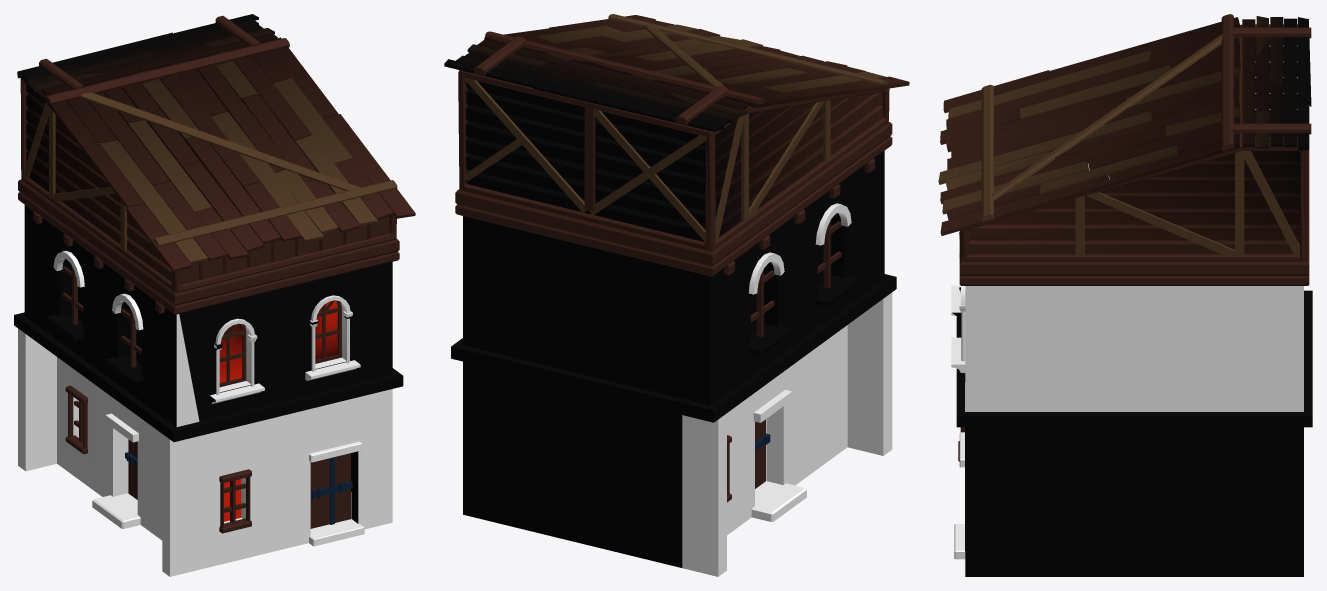
File: civilian_house_37_h.FBX
3 views of the same model, side by side, from view 1: azimuth 30°, elevation 25°; view 2: azimuth 150°, elevation 25°; view 3: azimuth 270°, elevation 25° (orthographic). The views are drawn at different scales.
Visible parts, largest first — view 1: civilian_house_37_h; view 2: civilian_house_37_h; view 3: civilian_house_37_h.
Part boxes in pixels (x1,y1,x2,y2): civilian_house_37_h: [14, 14, 415, 576]; civilian_house_37_h: [444, 14, 909, 576]; civilian_house_37_h: [938, 14, 1312, 576].
Size of the model in its own units: 649 by 1008 by 773.
